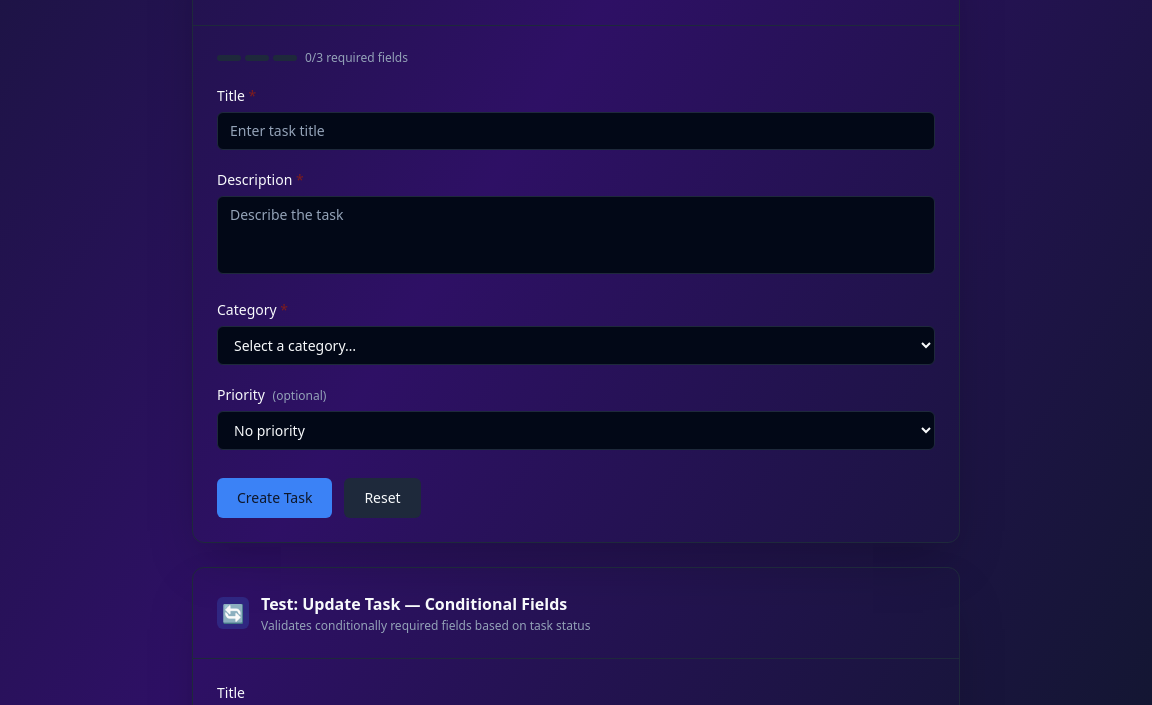
Test: Create Task — Required Fields › shows error for category field after change with empty value
The width and height of the screenshot is (1152, 705).
(page scrolled)
Step 1. Select "Select a category…" in the dropdown with id "task-category" → (576, 346), box [217,326,935,365]
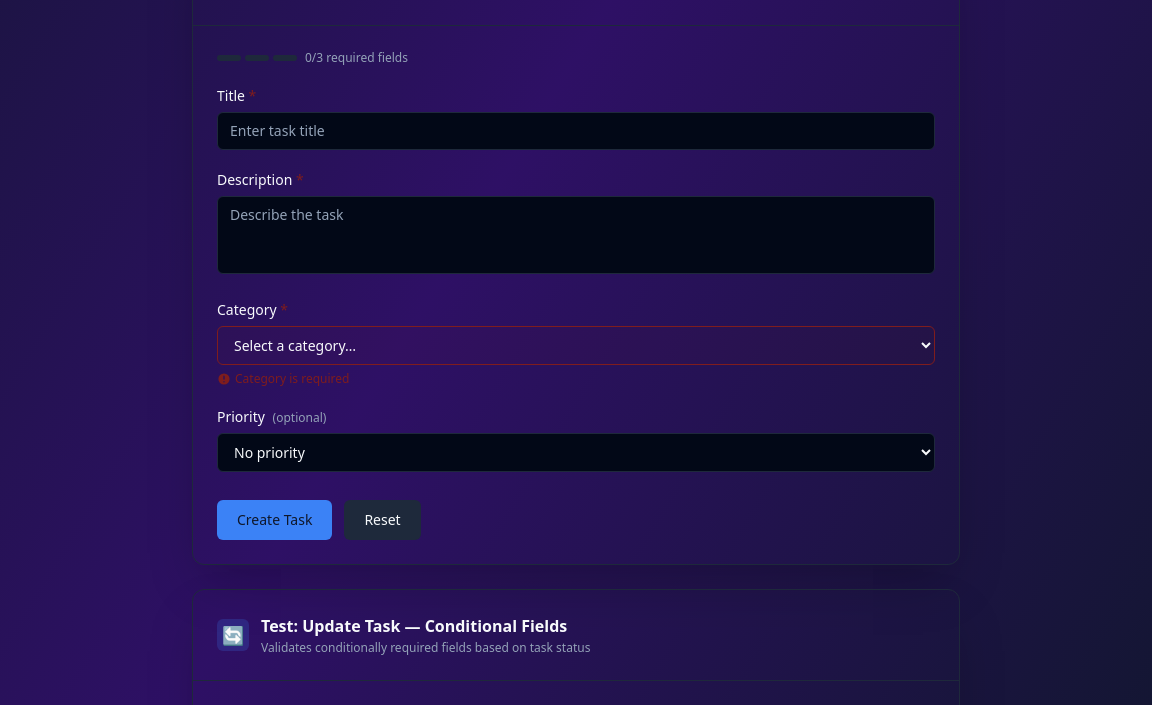
Expected: the text "Category is required" is shown, [217,370,350,387]
